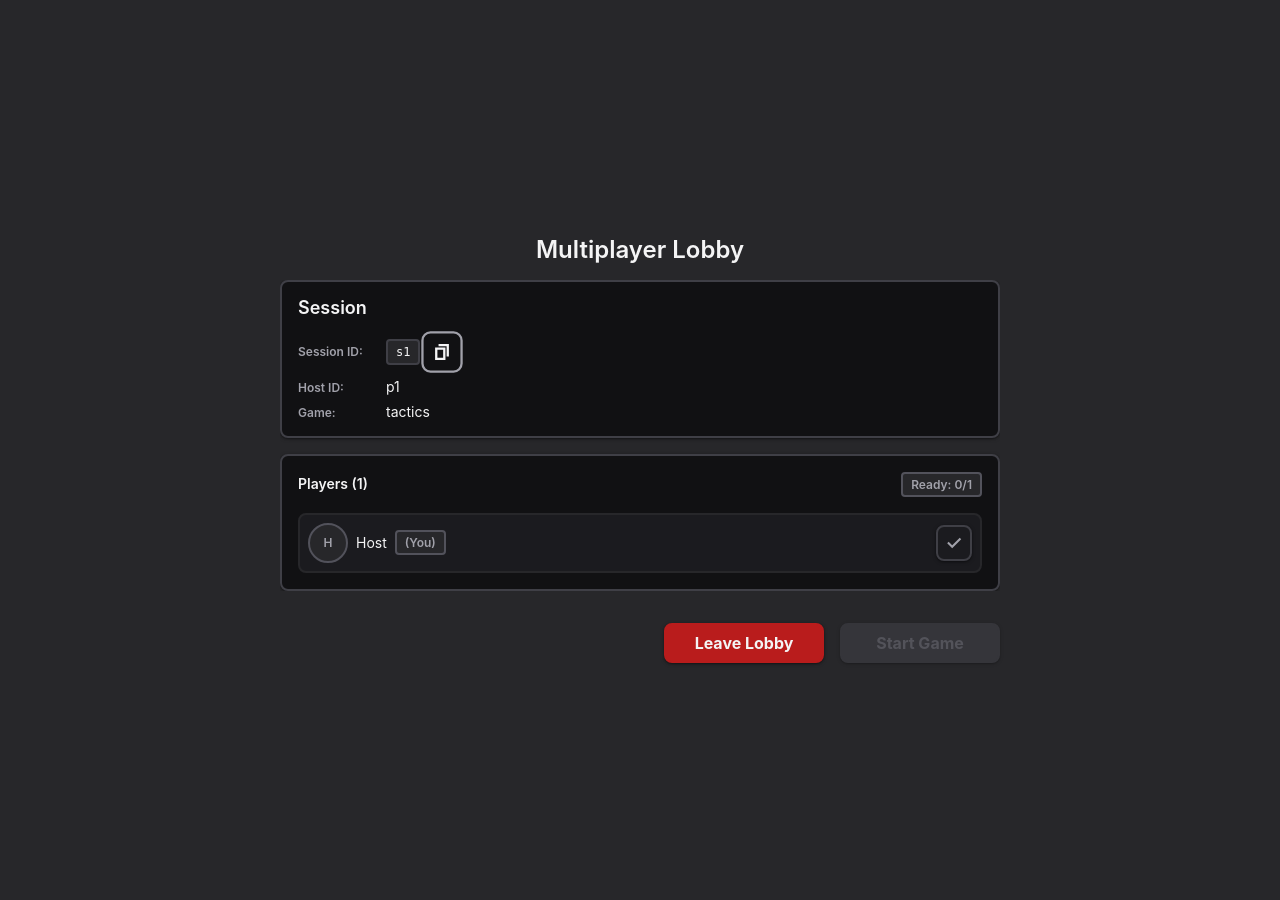
Test: LobbyPage write lock › shows a visible error when ready-state update fails
Click the button with test id "ready-toggle" at x=954, y=543, box [936,525,972,561]
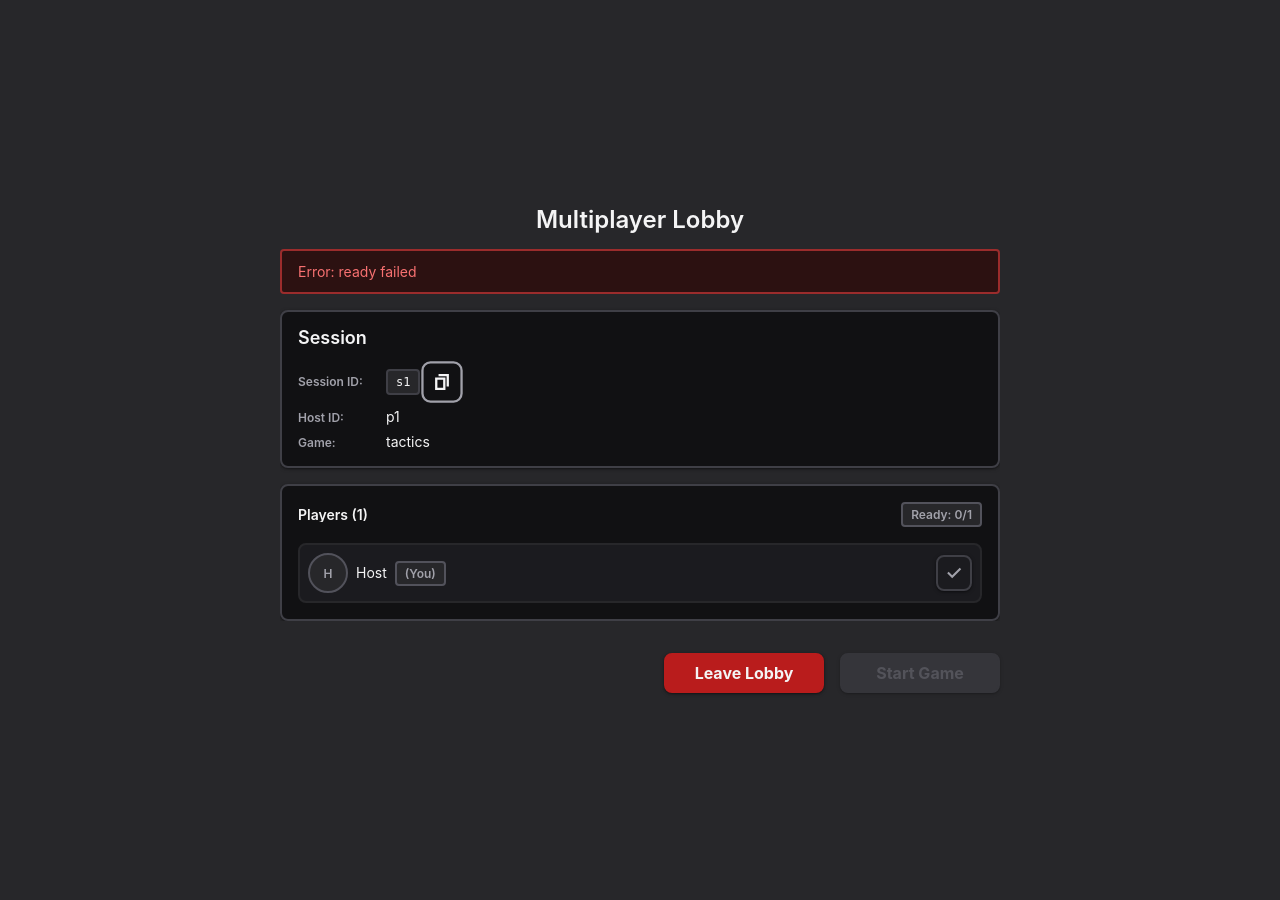
Expected: the message shows "ready failed", [298,263,417,280]
